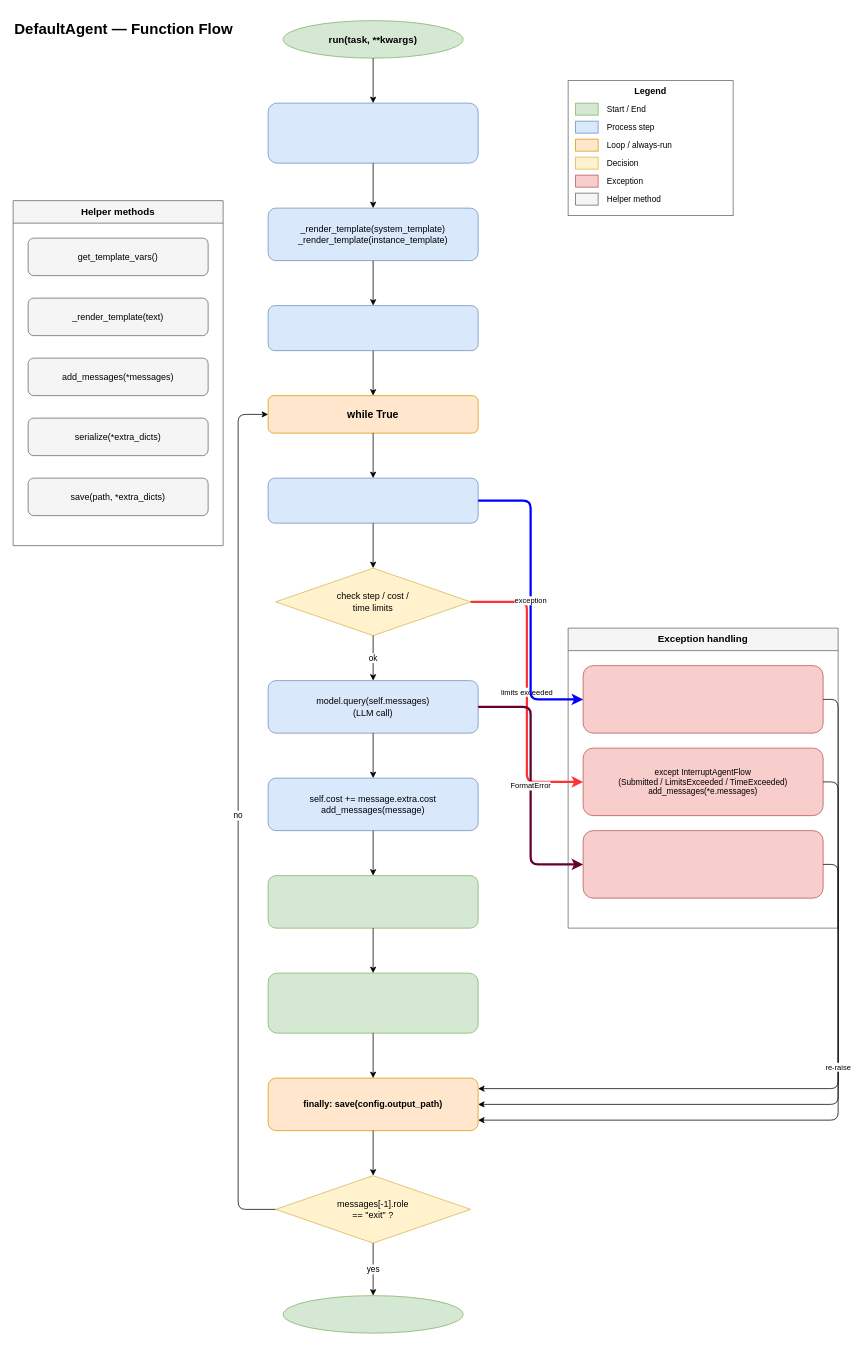
Image size: 864x1346. Some labels were removed from this diagram. Here are the shapes that lost their labels. From the top down, the centre of each, then its label:
pixel 372 132: extra_template_vars |= {"task": task} self.messages = []
pixel 372 328: add_messages(...) append rendered system + user (2 msgs)
pixel 372 500: try: step() = execute_actions(query())
pixel 702 699: except Exception handle_uncaught_exception(e) raise (escapes run)
pixel 702 864: except FormatError cost += cost ; count++ append error hint (exit if too many)
pixel 372 901: env.execute(action) x N (run bash, may raise Submitted)
pixel 372 1002: format_observation_messages(...) add_messages(tool messages)
pixel 372 1314: return messages[-1].extra
